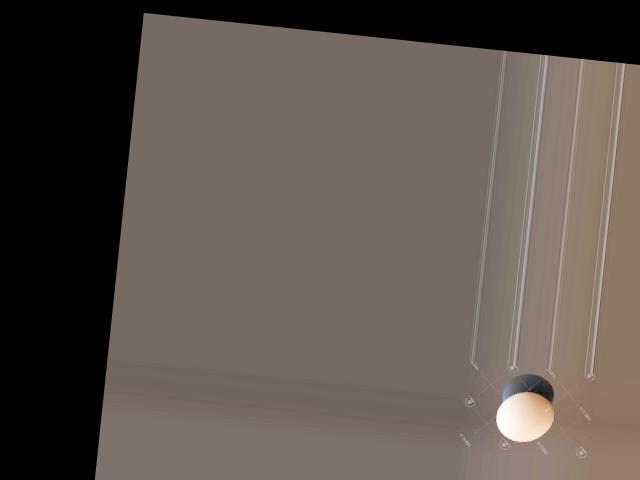egg: (493, 388, 556, 444)
